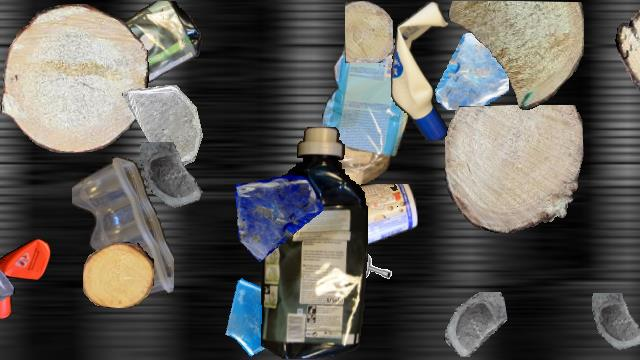glass: (229, 172, 323, 266), (221, 269, 311, 359), (122, 85, 206, 169), (135, 142, 213, 220), (432, 33, 508, 109), (443, 292, 507, 356), (587, 293, 640, 359), (0, 226, 14, 320)
metal: (350, 252, 398, 300)
plastic: (260, 127, 368, 359), (47, 1, 203, 103), (322, 35, 408, 209), (72, 157, 174, 299), (391, 1, 455, 139), (318, 184, 418, 254), (0, 239, 51, 319)
wood: (0, 4, 148, 152), (445, 105, 583, 233), (448, 1, 584, 109), (83, 242, 153, 308), (345, 1, 393, 63), (615, 1, 640, 97)
